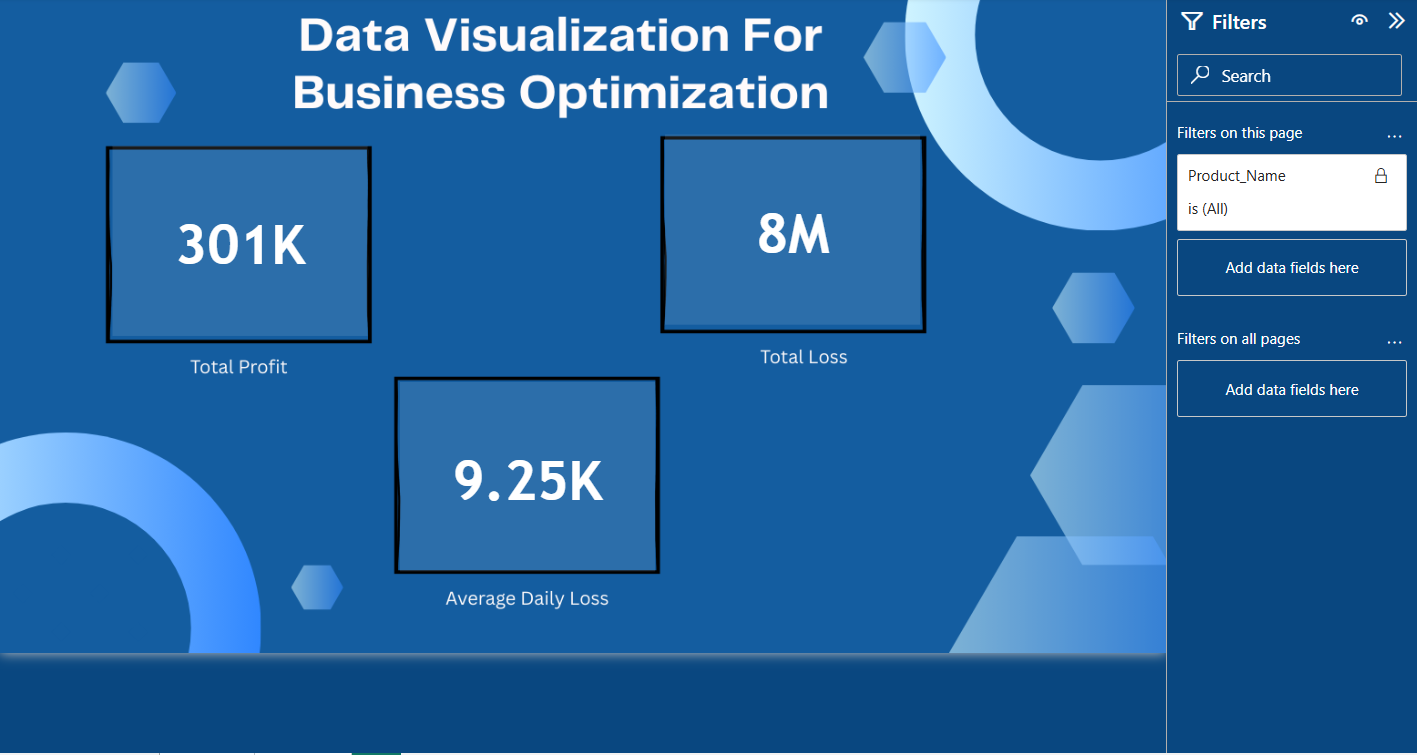

The dashboard page shown, as its layout file describes it:
{"tool":"powerbi","page":{"name":"Page 2","canvas":[1280,720],"ordinal":1},"visuals":[{"type":"card","fields":{"Values":["Measure Table.Average Loss Per Day"]},"box":[438.9,423.2,280.1,208],"z":0},{"type":"card","fields":{"Values":["Measure Table.Total Profit"]},"box":[122.8,163.8,280.4,208.4],"z":1000},{"type":"card","fields":{"Values":["Measure Table.Total Loss"]},"box":[730.7,151.3,280.4,208.4],"z":2000}]}

Visuals, with their boxes on the page's 1280x720 design canvas (x1, y1, x2, y2). These are canvas units, not pixel positions in the 1417x755 screenshot, which may show the page scaled, cropped or inside an application window:
card - Measure Table.Average Loss Per Day: (x1=439, y1=423, x2=719, y2=631)
card - Measure Table.Total Profit: (x1=123, y1=164, x2=403, y2=372)
card - Measure Table.Total Loss: (x1=731, y1=151, x2=1011, y2=360)
